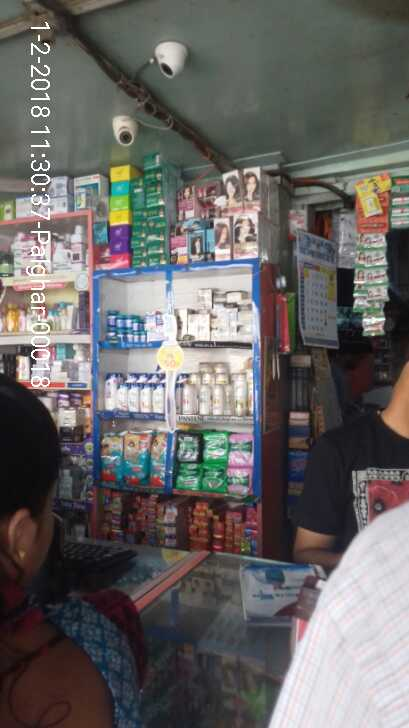vicks: (107, 307, 165, 341)
